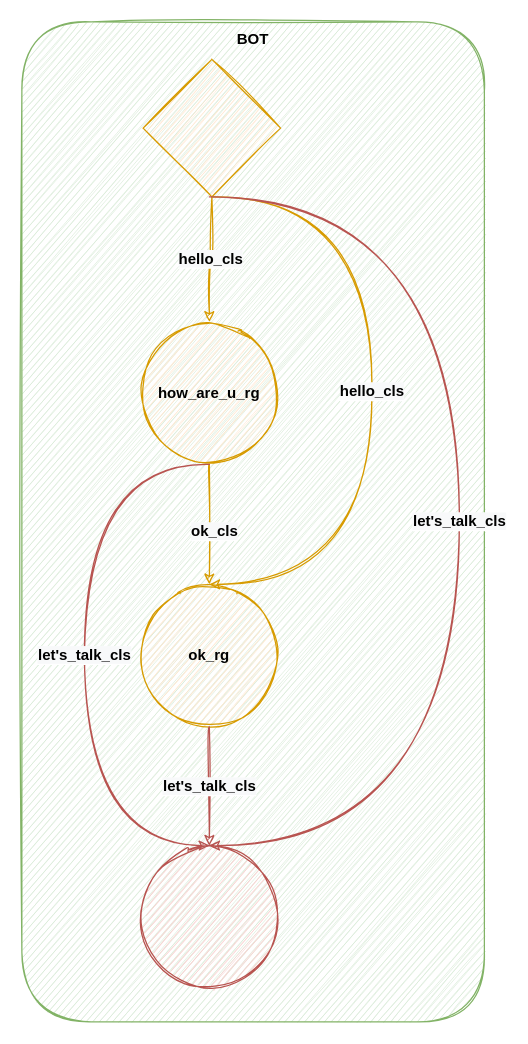
The diagram is 528 pixels wide and 1044 high, and some of its shapes have lost their labels. The shapes that lost their labels are listed below. From the top down, each one's centre as x and y in pixels, then its label:
At point (211, 127): "START".
At point (209, 916): "news_rg".
